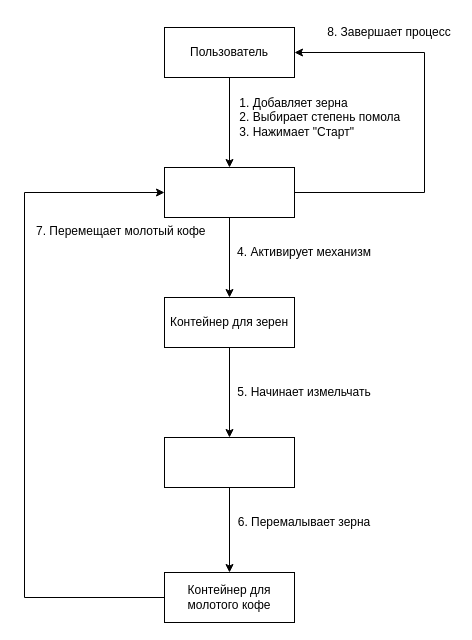
Image size: 472x640. Some labels were removed from this diagram. The centre of each missing label's shape, as x and y in pixels:
"Кофемолка" goes at point (229, 192).
"Механизм измельчения" goes at point (229, 462).
